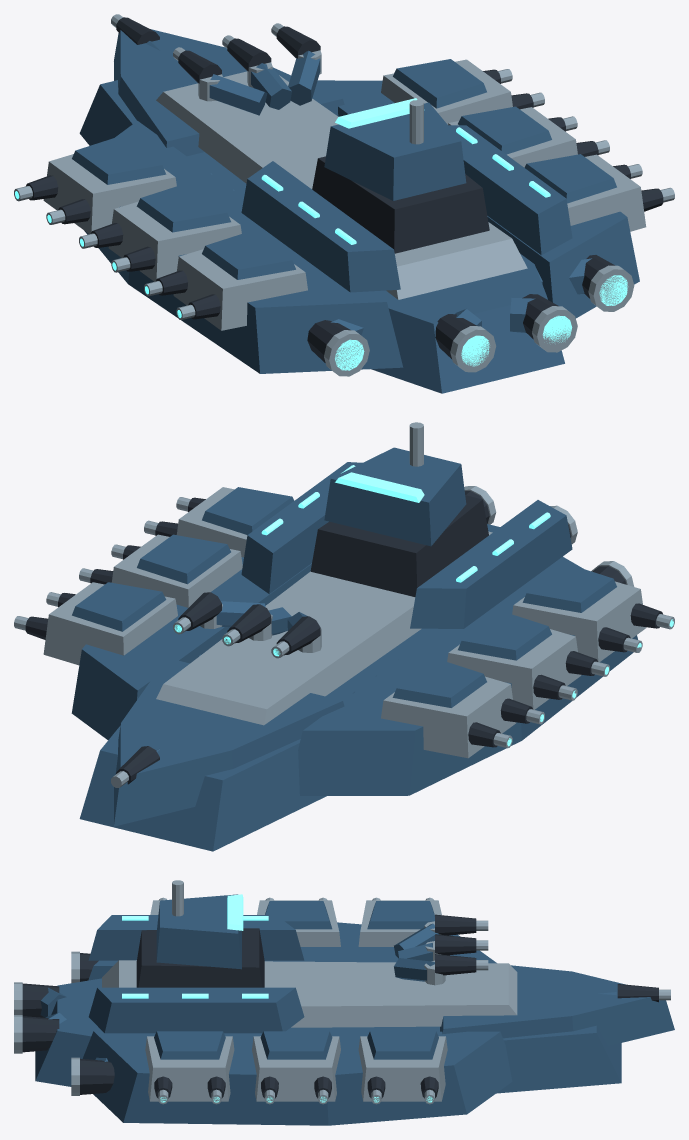
File: chapter4Boss.glb
3 views of the same model, one above another, from view 1: azimuth 30°, elevation 25°; view 2: azimuth 150°, elevation 25°; view 3: azimuth 270°, elevation 25° (orthographic). The views are drawn at different scales.
Visible parts, largest first — view 1: chapter4Boss / Armor, chapter4Boss / Titanium, chapter4Boss / Chassis, chapter4Boss / Energy; view 2: chapter4Boss / Armor, chapter4Boss / Titanium, chapter4Boss / Chassis, chapter4Boss / Energy; view 3: chapter4Boss / Armor, chapter4Boss / Titanium, chapter4Boss / Chassis, chapter4Boss / Energy.
Part boxes in pixels (box(x1,y1,x2,y2)): chapter4Boss / Armor: box(72, 29, 639, 393); chapter4Boss / Titanium: box(14, 14, 674, 376); chapter4Boss / Chassis: box(26, 17, 663, 362); chapter4Boss / Energy: box(15, 98, 628, 370); chapter4Boss / Armor: box(71, 447, 637, 851); chapter4Boss / Titanium: box(14, 422, 674, 787); chapter4Boss / Chassis: box(25, 491, 662, 784); chapter4Boss / Energy: box(174, 465, 673, 746); chapter4Boss / Armor: box(35, 894, 674, 1125); chapter4Boss / Titanium: box(14, 880, 670, 1104); chapter4Boss / Chassis: box(22, 914, 658, 1098); chapter4Boss / Energy: box(122, 894, 433, 1102).
Size of the model in its own units: 3.5 by 1.44 by 4.96.
